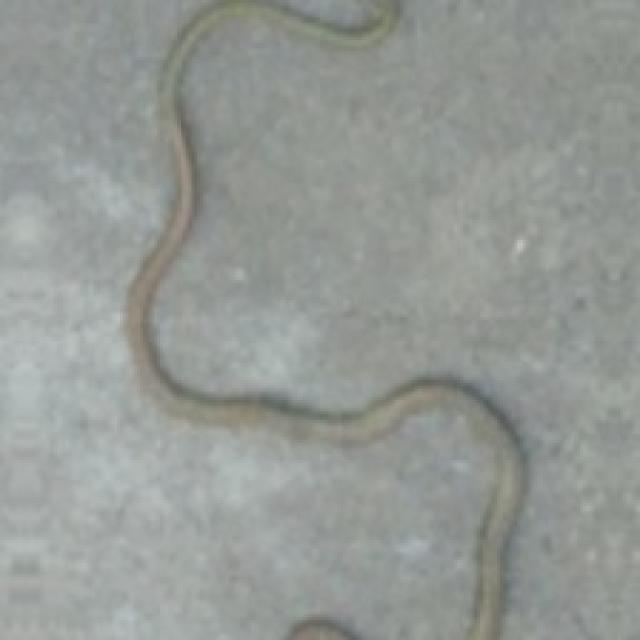paradise tree snake: (129, 0, 523, 637)
